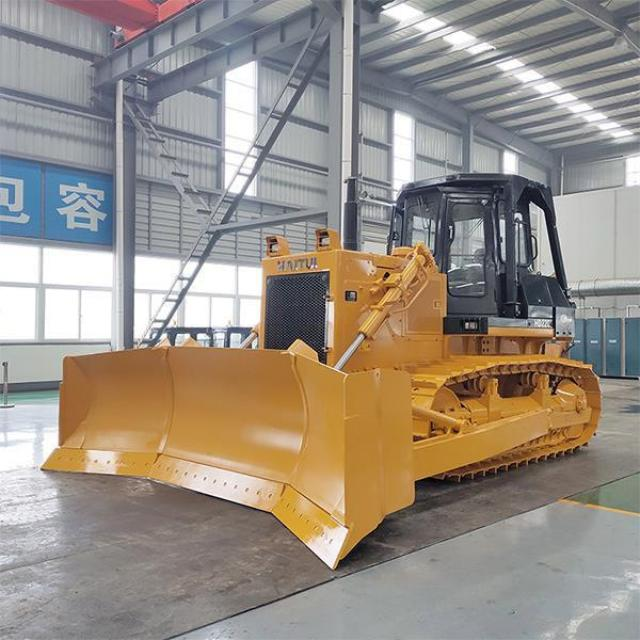buldozerpayloadergrader: (26, 159, 634, 576)
